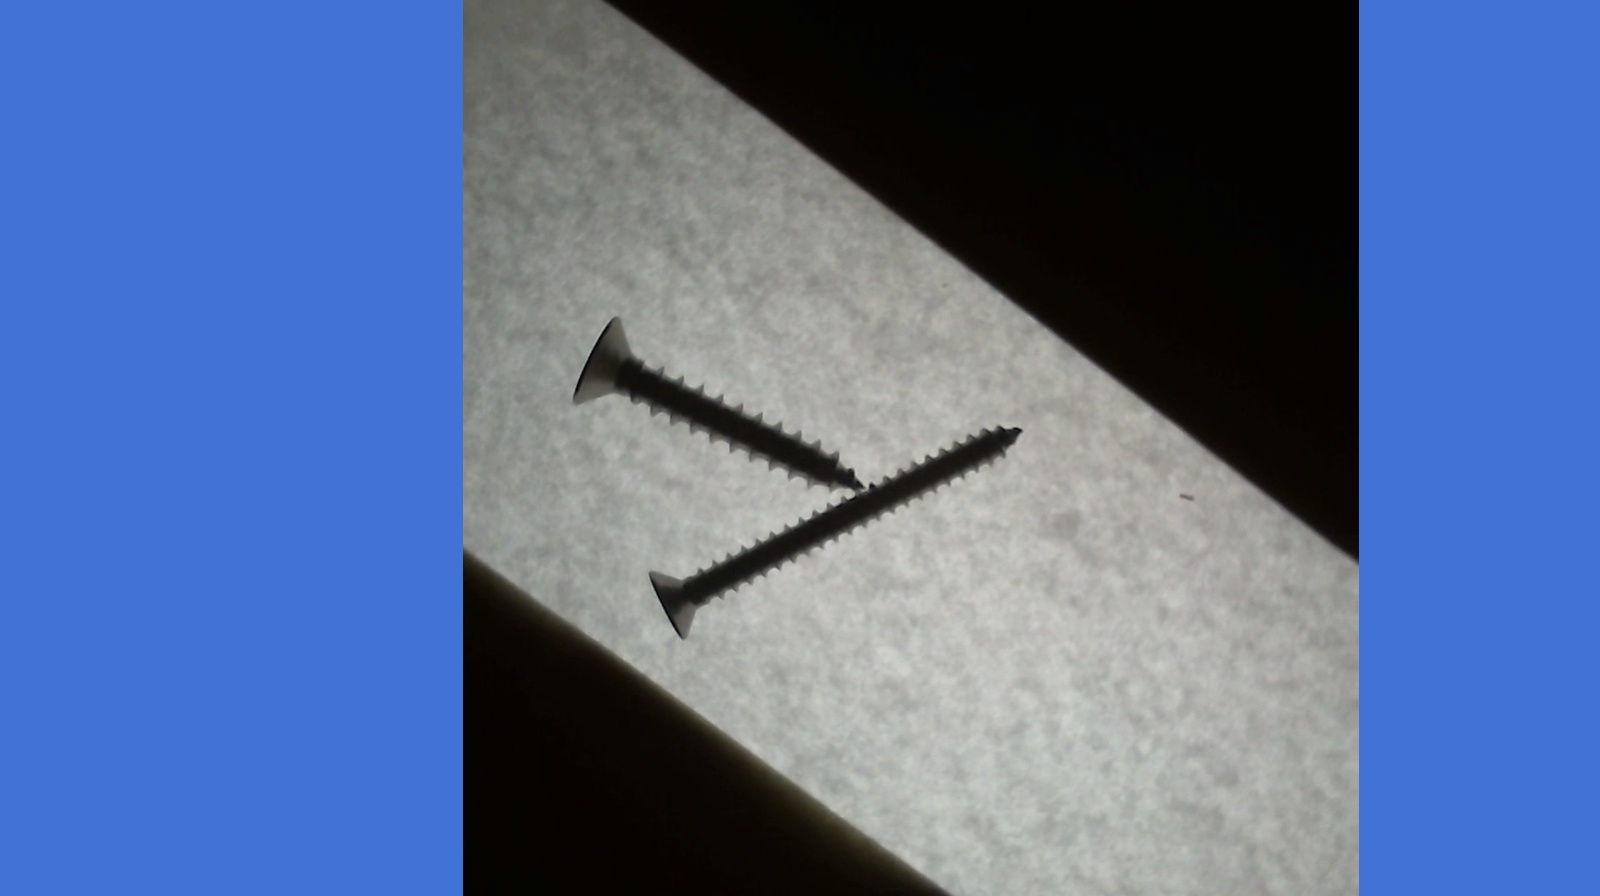S001: (569, 316, 862, 496)
S002: (643, 421, 1024, 645)
